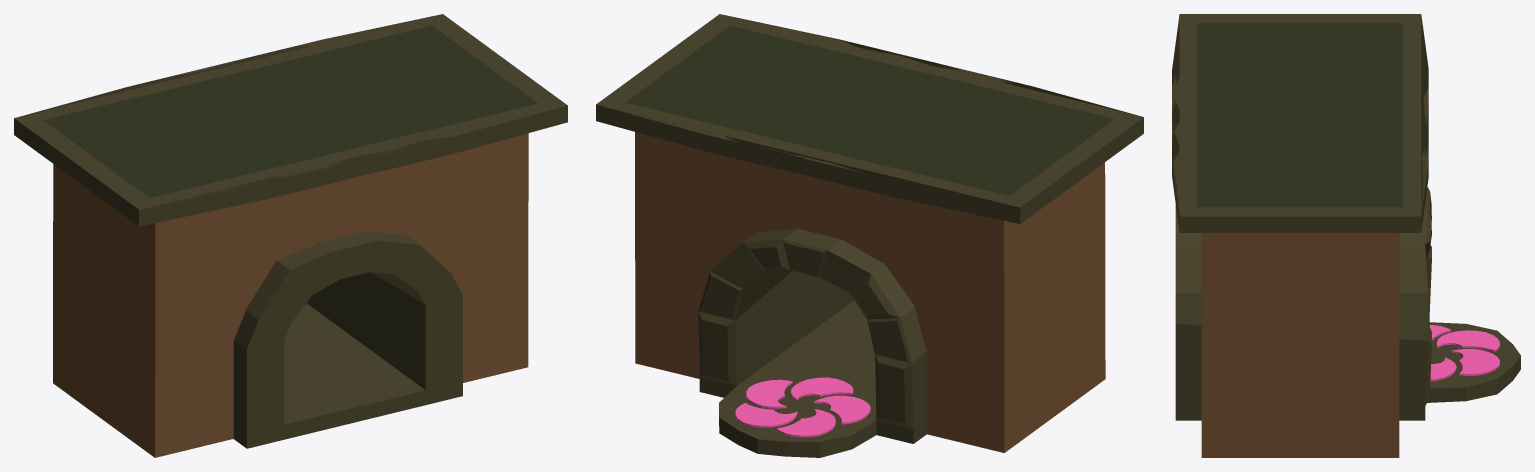
The model's file is Entrance Gate.fbx.
3 views of the same model, side by side, from view 1: azimuth 30°, elevation 25°; view 2: azimuth 150°, elevation 25°; view 3: azimuth 270°, elevation 25° (orthographic). The views are drawn at different scales.
Visible parts, largest first — view 1: ENTRANCE GATE .001; view 2: ENTRANCE GATE .001; view 3: ENTRANCE GATE .001.
Boxes of the visible parts, x1,y1,x2,y2 form: ENTRANCE GATE .001: [14, 14, 567, 457]; ENTRANCE GATE .001: [596, 14, 1143, 457]; ENTRANCE GATE .001: [1172, 14, 1520, 457].
Bounding box in the file's own units: 4627 × 2723 × 3370.
